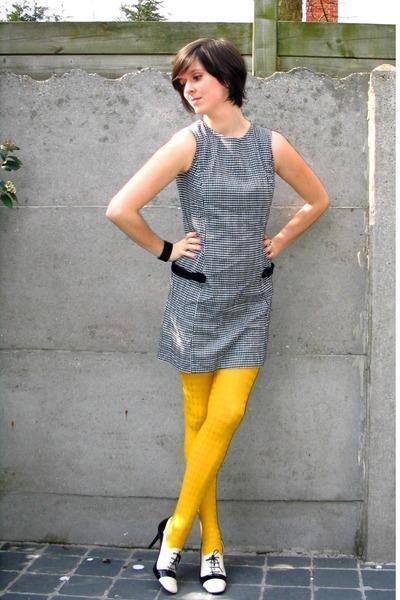dress: (152, 126, 282, 375)
shoe: (145, 517, 227, 591)
